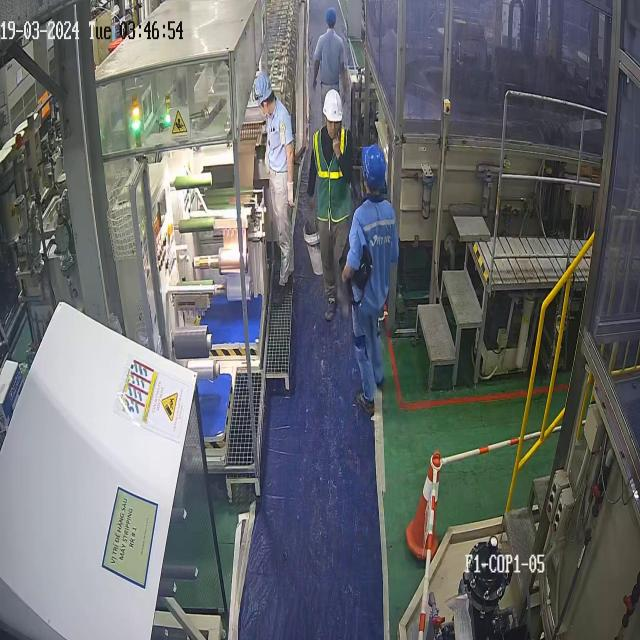Person: (340, 144, 400, 416), (306, 88, 354, 322), (253, 72, 295, 286), (312, 7, 348, 126)
